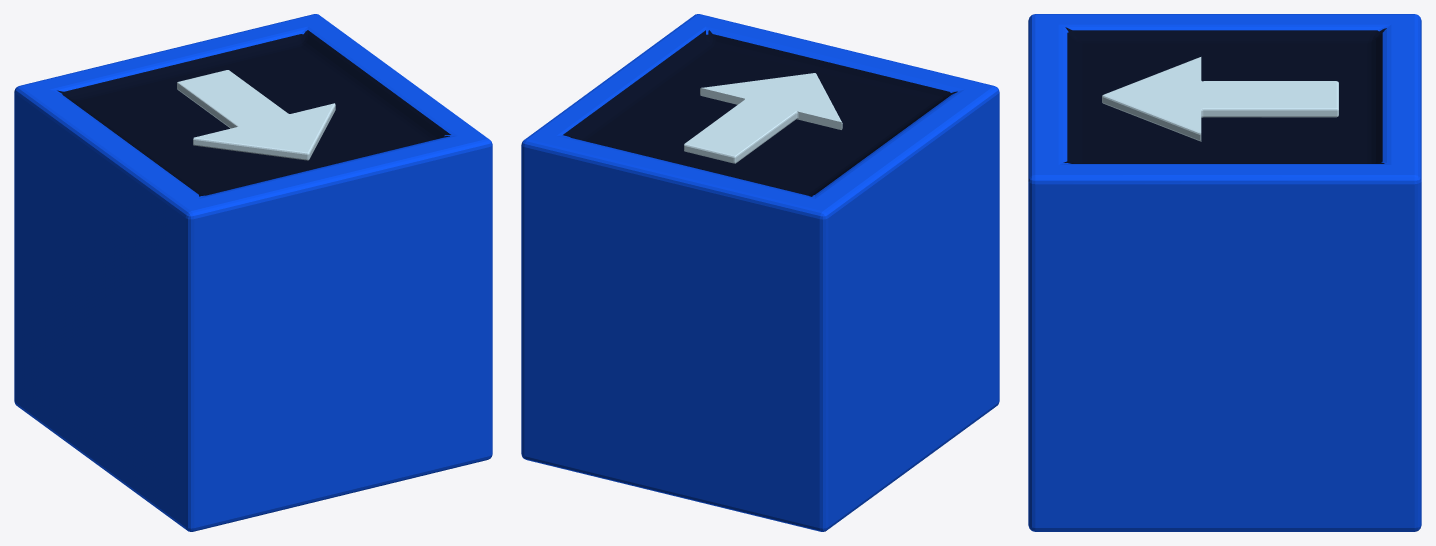
File: blue_up.obj
3 renders of one model, left to right at view 1: azimuth 30°, elevation 25°; view 2: azimuth 150°, elevation 25°; view 3: azimuth 270°, elevation 25°, orthographic. The views are drawn at different scales.
Parts seen in each view (by area): view 1: blue_up_body, blue_up_up; view 2: blue_up_body, blue_up_up; view 3: blue_up_body, blue_up_up.
Part boxes in pixels (x1=…): blue_up_body: x1=14, y1=14, x2=492, y2=531; blue_up_up: x1=177, y1=70, x2=335, y2=160; blue_up_body: x1=521, y1=14, x2=999, y2=531; blue_up_up: x1=684, y1=73, x2=842, y2=163; blue_up_body: x1=1028, y1=14, x2=1421, y2=531; blue_up_up: x1=1102, y1=57, x2=1338, y2=141.
Size of the model in its own units: 1 by 1 by 1.
